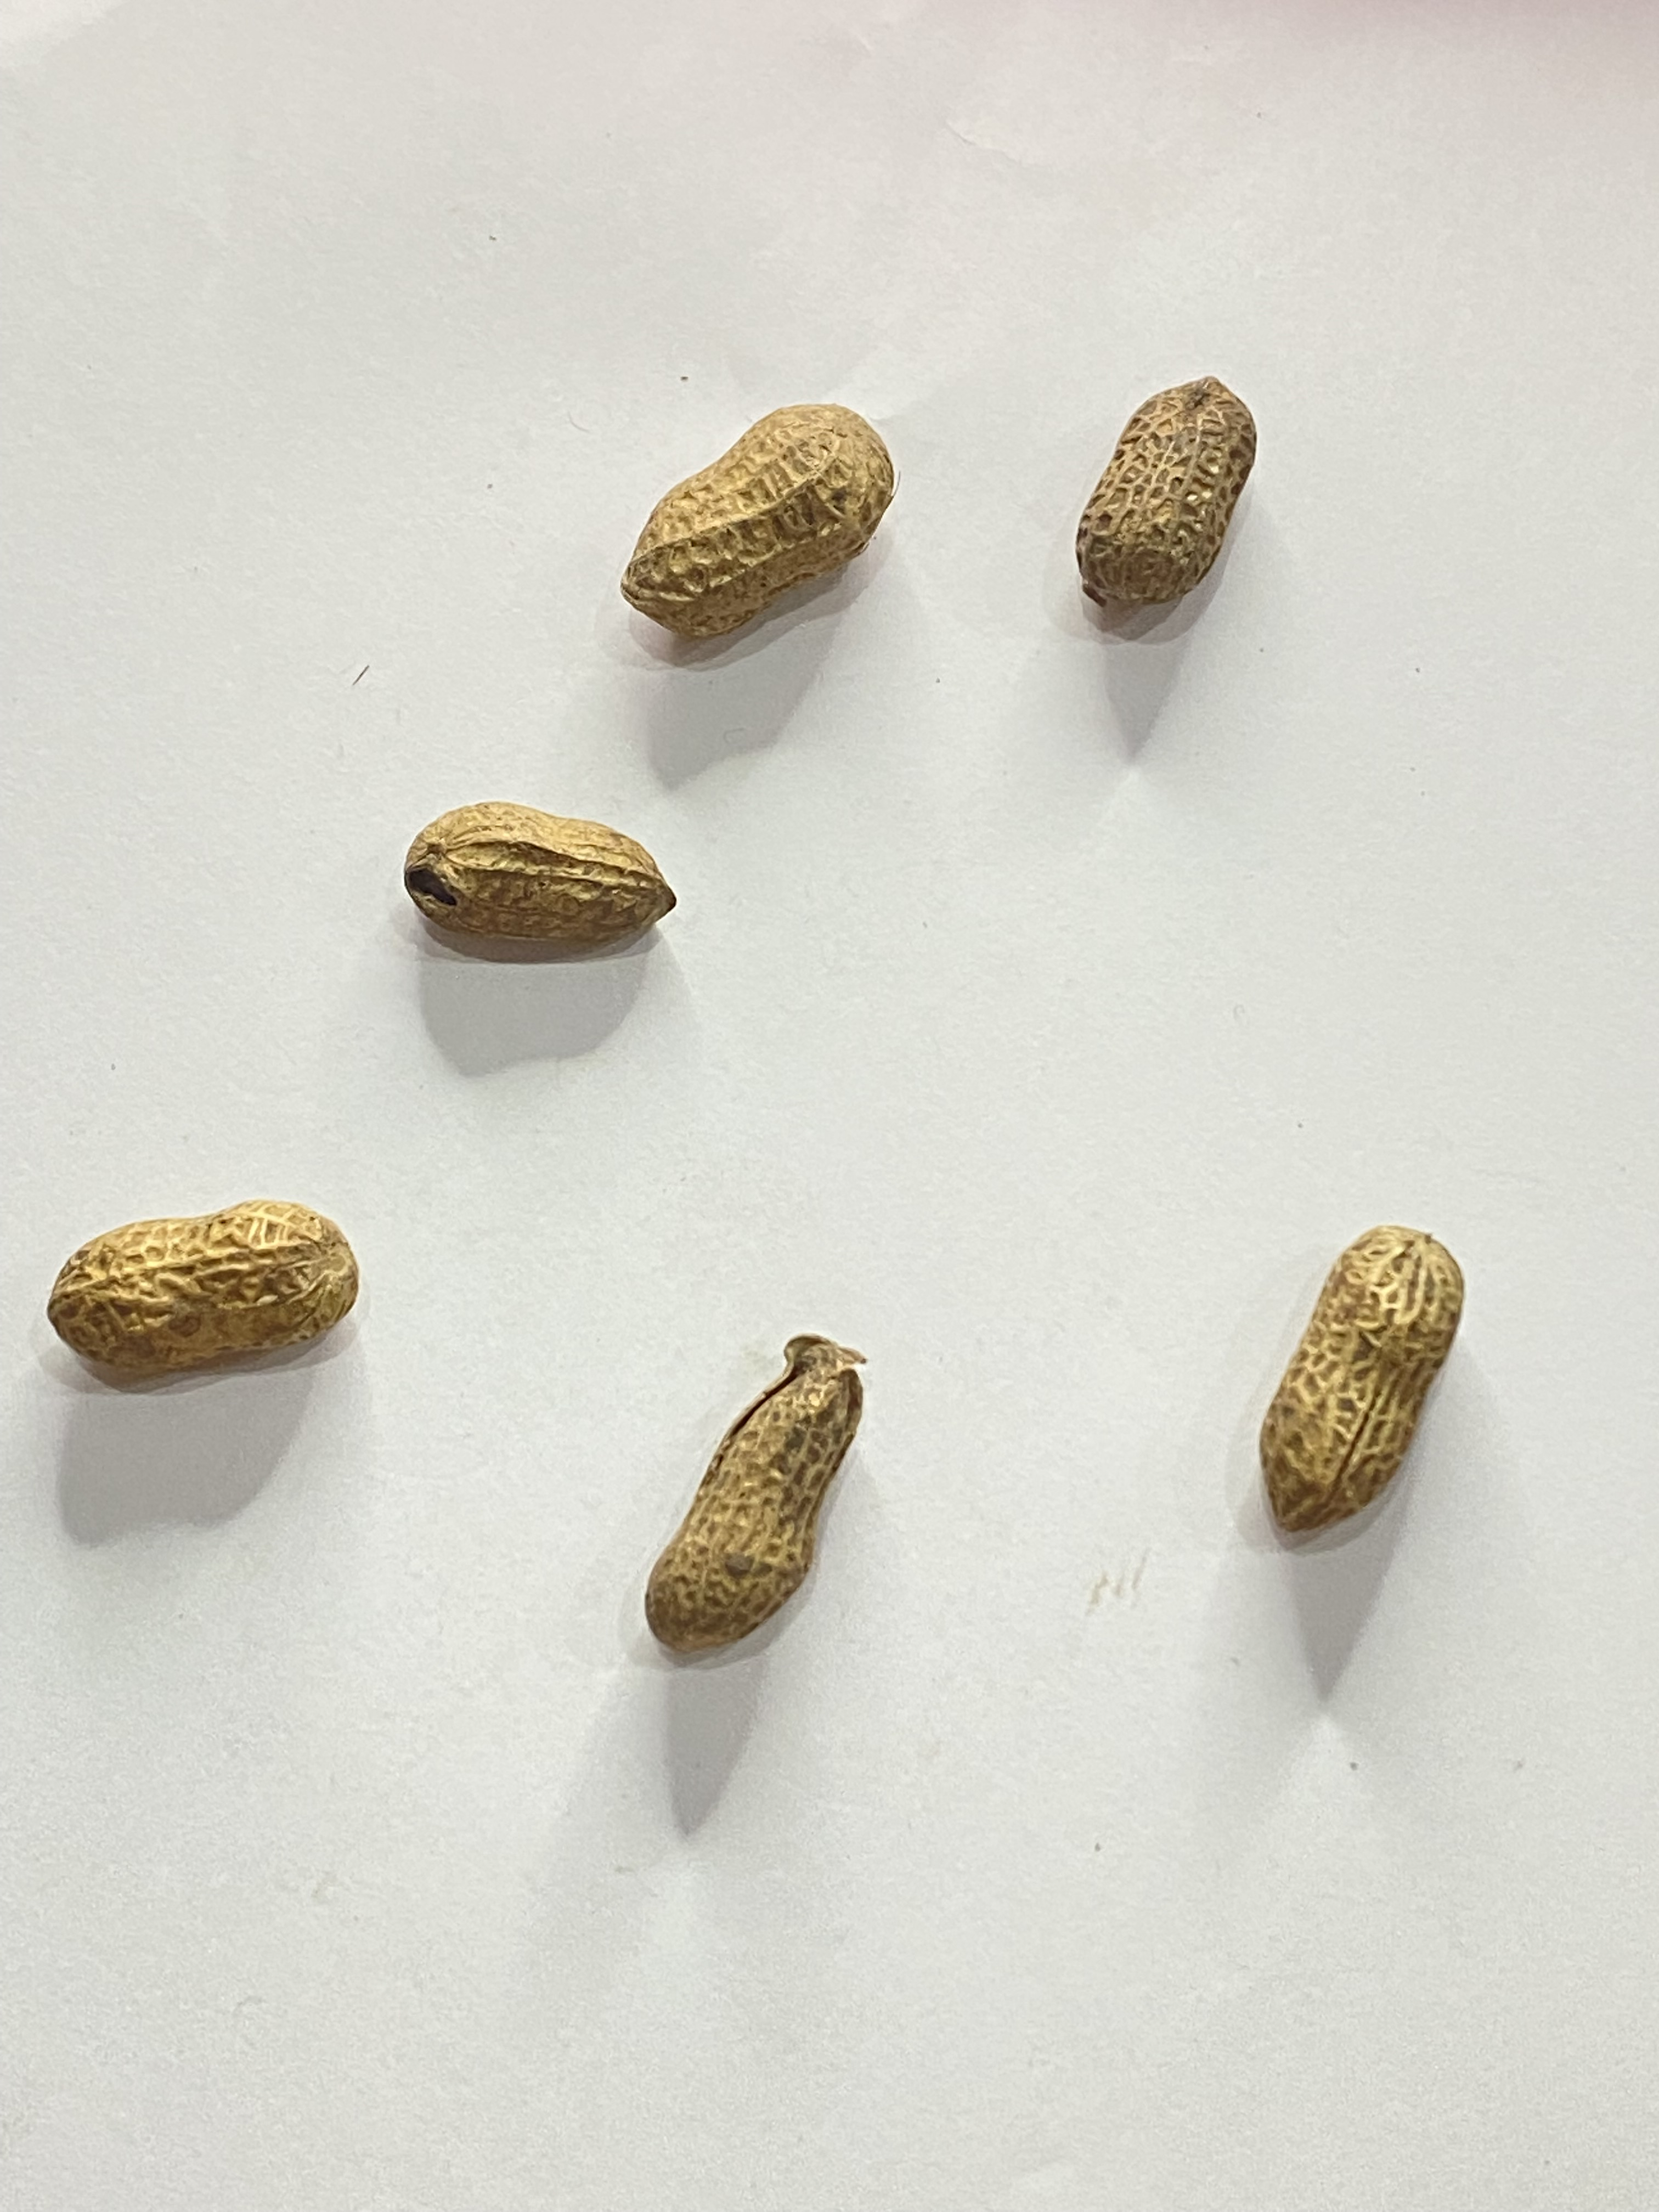kacang2: (300, 791, 800, 996), (584, 380, 985, 636), (1249, 1209, 1527, 1555), (647, 1332, 931, 1665), (0, 1198, 464, 1397), (1044, 324, 1290, 636)
